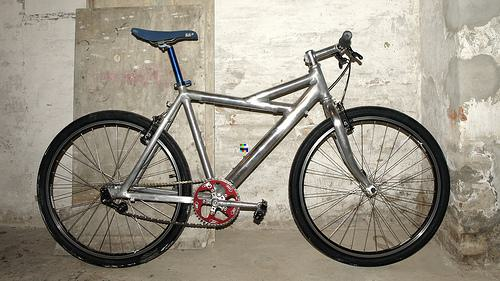car: (37, 29, 451, 268)
